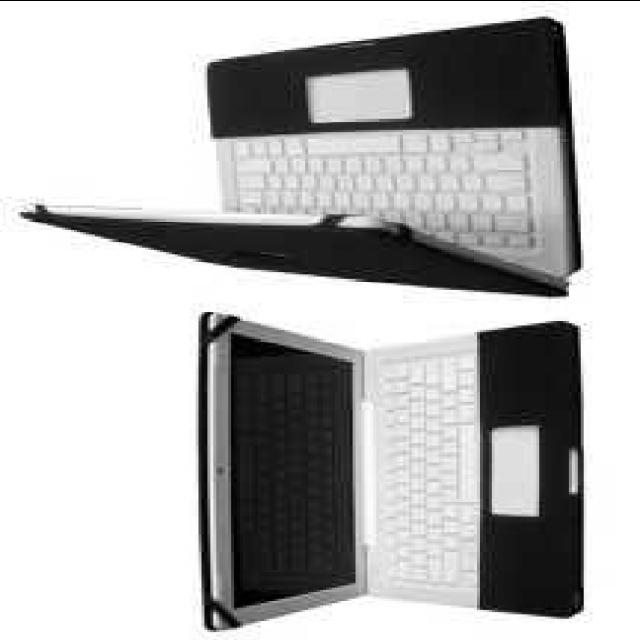laptop: (26, 32, 578, 298), (204, 312, 610, 632)
